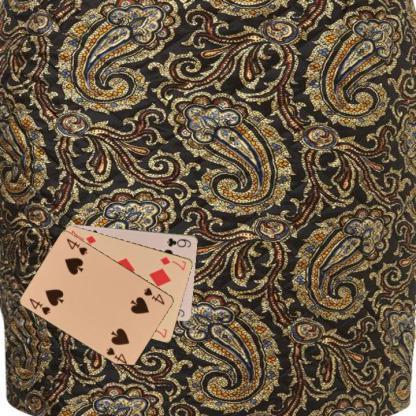4s: (142, 284, 166, 306), (27, 295, 52, 316)
6c: (164, 235, 192, 249)
7d: (158, 254, 188, 272)
